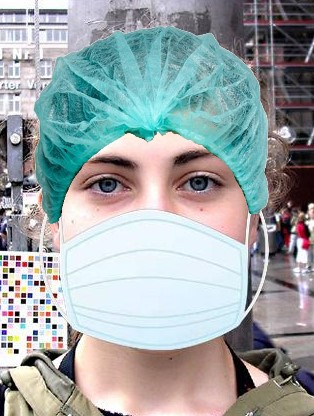with_mask_and_cap: (38, 30, 261, 351)
